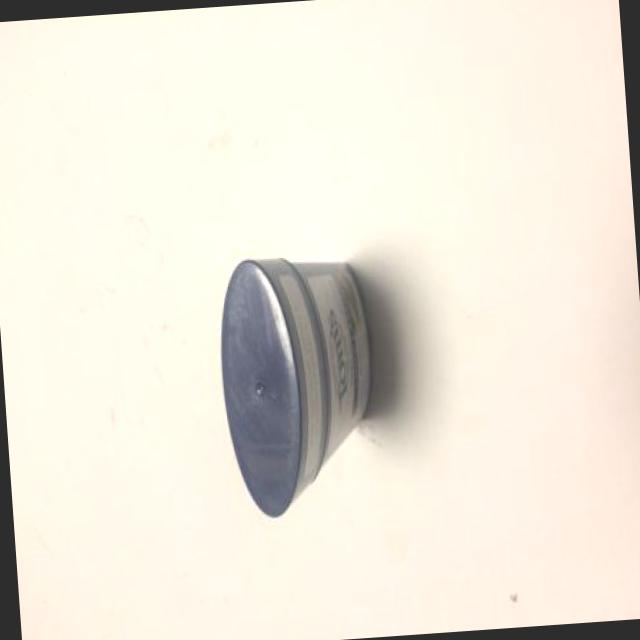Trash: (213, 251, 382, 521)
